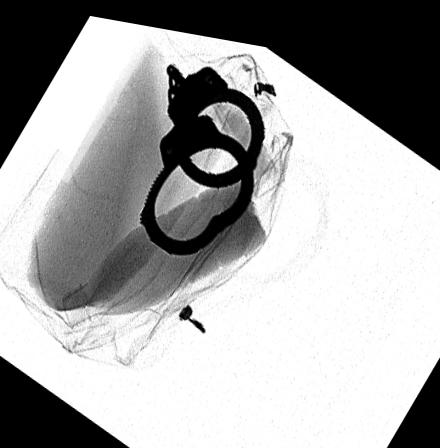HandCuffs: (139, 57, 267, 249)
